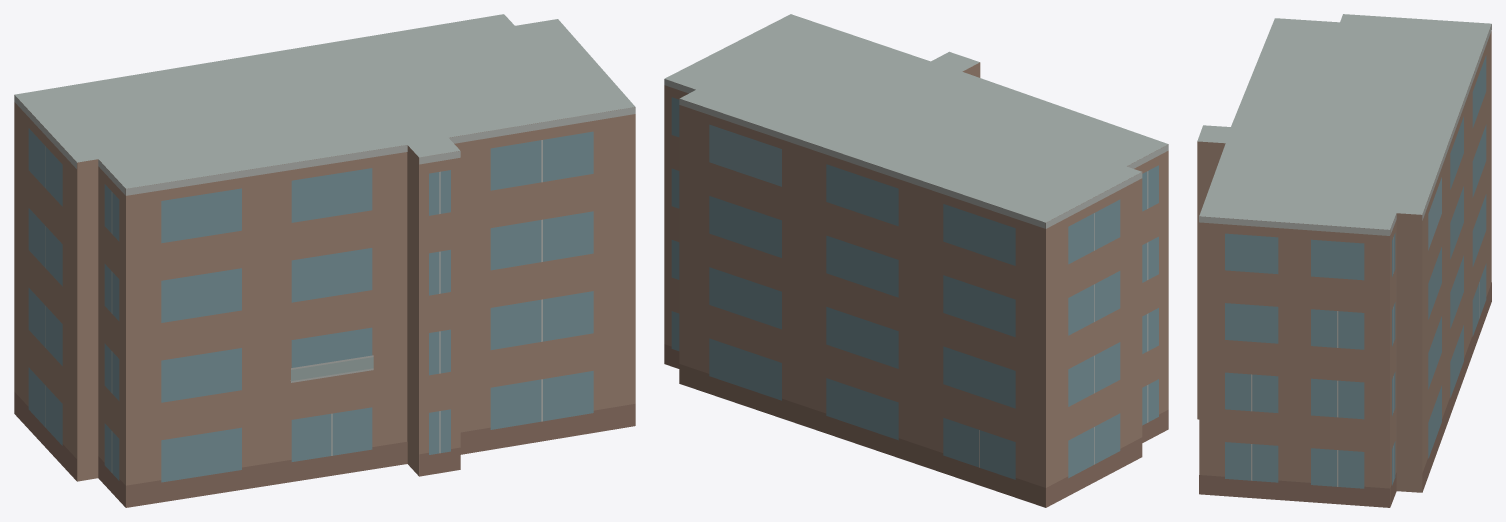
The model's file is survey-upis-32740487.glb.
3 renders of one model, left to right at view 1: azimuth 30°, elevation 25°; view 2: azimuth 150°, elevation 25°; view 3: azimuth 270°, elevation 25°, orthographic. The views are drawn at different scales.
Parts seen in each view (by area): view 1: survey-upis-32740487.tmp; view 2: survey-upis-32740487.tmp; view 3: survey-upis-32740487.tmp.
Boxes of the visible parts, x1=… form: survey-upis-32740487.tmp: x1=14, y1=14, x2=635, y2=507; survey-upis-32740487.tmp: x1=664, y1=14, x2=1168, y2=507; survey-upis-32740487.tmp: x1=1197, y1=14, x2=1491, y2=507.
Size of the model in its own units: 18.42 by 11.05 by 10.62.
